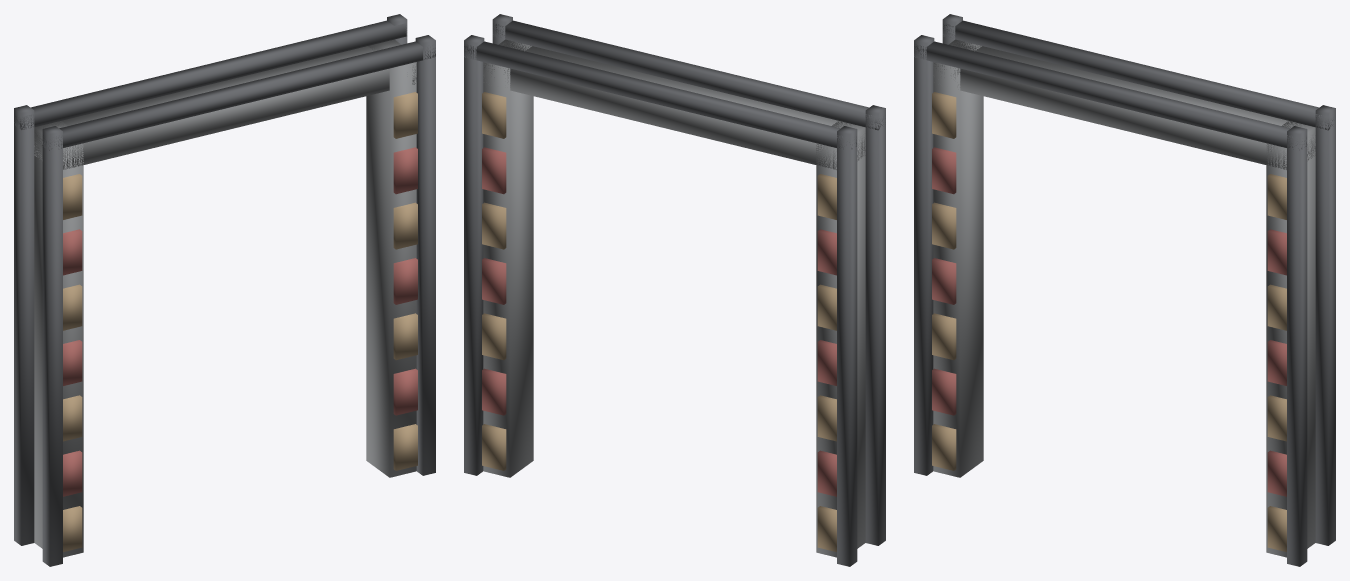
File: doorway_brick_return_w182_h220_d24.glb
3 views of the same model, side by side, from view 1: azimuth 30°, elevation 25°; view 2: azimuth 150°, elevation 25°; view 3: azimuth 330°, elevation 25° (orthographic).
Parts seen in each view (by area): view 1: world; view 2: world; view 3: world.
Boxes of the visible parts, left/top/right/bottom form: world: left=14, top=14, right=435, bottom=566; world: left=464, top=14, right=885, bottom=566; world: left=914, top=14, right=1335, bottom=566.
Size of the model in its own units: 2.29 by 2.46 by 0.3706.
